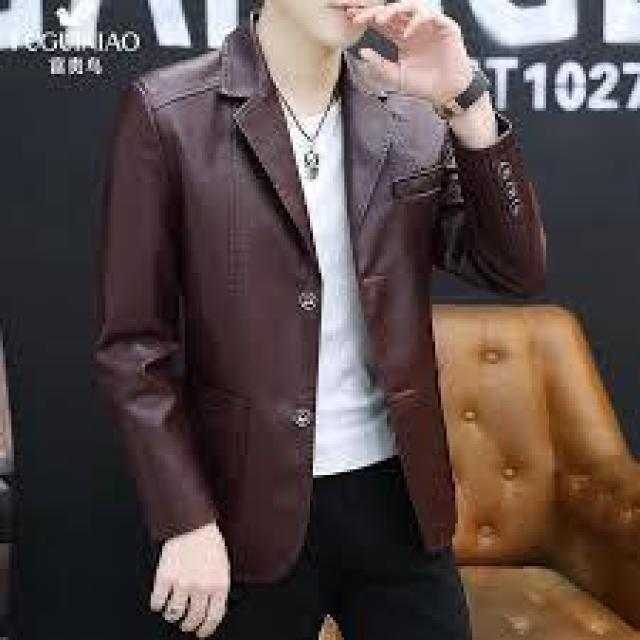jacket: (85, 19, 549, 573)
